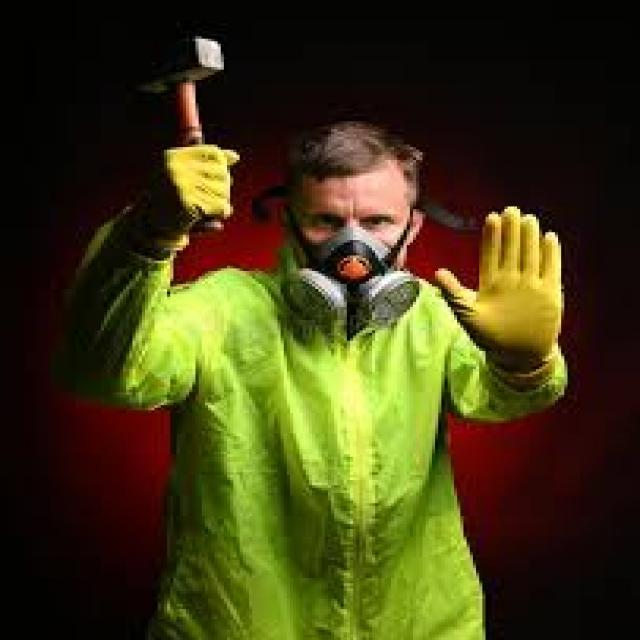hammer: (131, 27, 247, 236)
